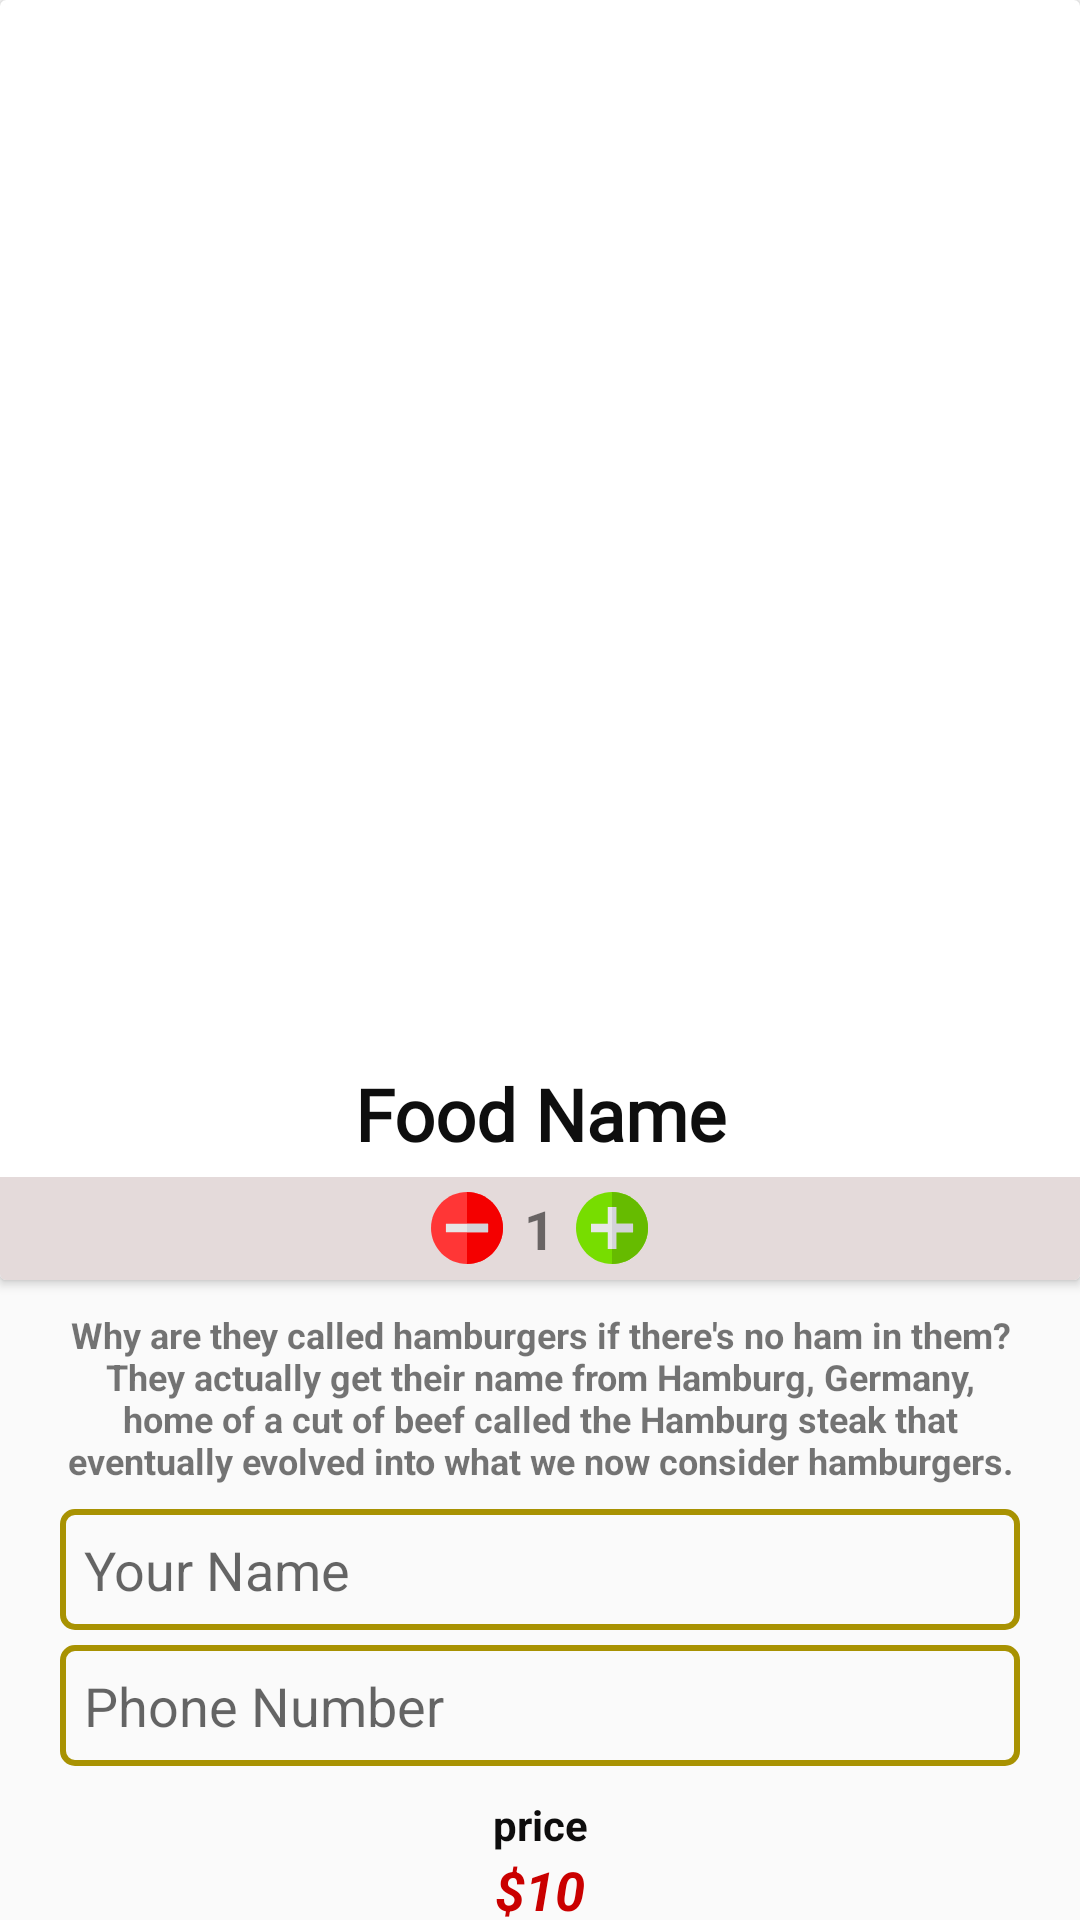

Icons on this 1080px×1920px Android screen, each with the point to tap as (x=x, y=y):
add: (x=612, y=1228)
minus: (x=467, y=1228)
